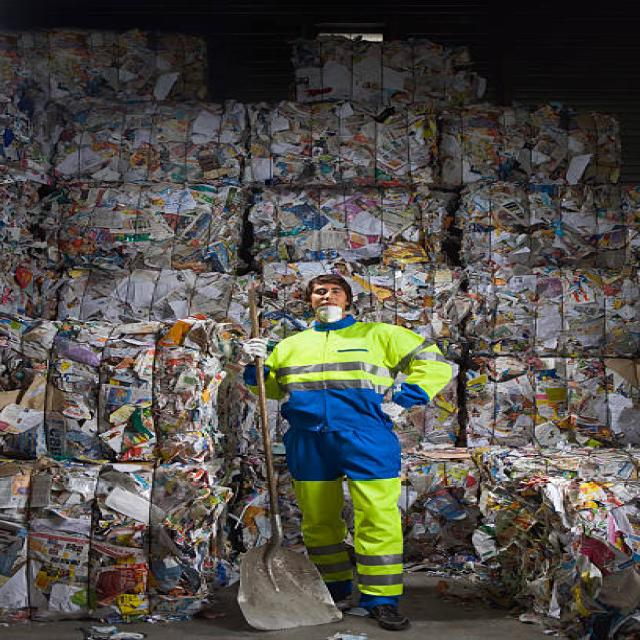trash: (19, 41, 232, 586), (252, 68, 606, 293), (475, 352, 632, 588)
